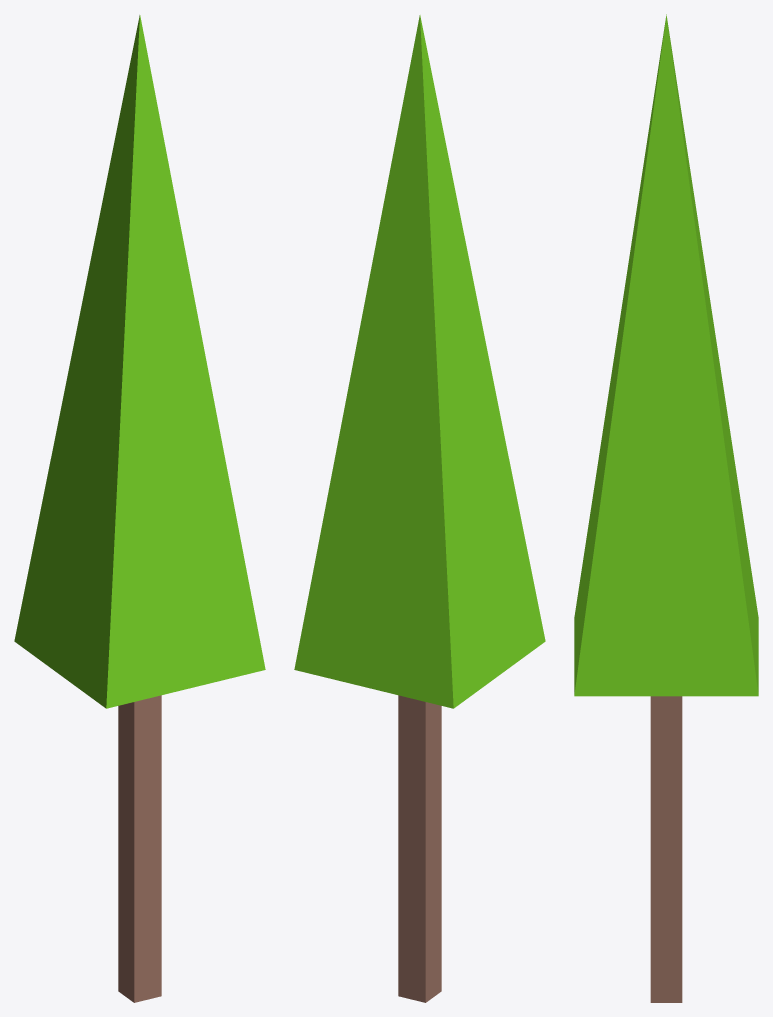
File: tree.glb
The picture shows the model from 3 angles, left to right: view 1: azimuth 30°, elevation 25°; view 2: azimuth 150°, elevation 25°; view 3: azimuth 270°, elevation 25°; orthographic projection.
Parts seen in each view (by area): view 1: Cube; view 2: Cube; view 3: Cube.
Part boxes in pixels (<box>): Cube: <box>14,15,265,1002</box>; Cube: <box>294,15,545,1002</box>; Cube: <box>574,14,758,1002</box>.
Size of the model in its own units: 2.07 by 12.14 by 2.07.
